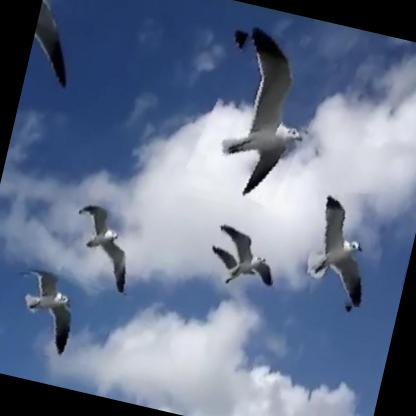bird: (190, 23, 334, 211), (297, 185, 388, 315), (4, 266, 100, 365), (62, 203, 157, 297), (206, 223, 284, 305)
